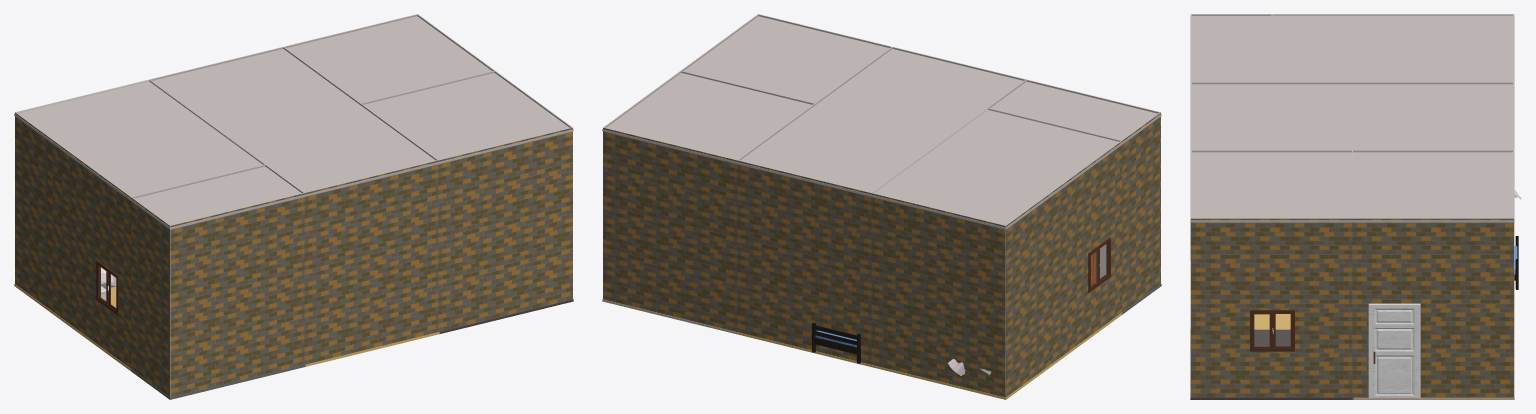
The model's file is ProcTHOR-Train-114.glb.
The picture shows the model from 3 angles, left to right: view 1: azimuth 30°, elevation 25°; view 2: azimuth 150°, elevation 25°; view 3: azimuth 270°, elevation 25°; orthographic projection. The views are drawn at different scales.
Parts seen in each view (by area): view 1: WallInside#wall|exterior|6.53|6.53|9.79|6.53, WallInside#wall|exterior|0.00|6.53|3.26|6.53, WallInside#wall|exterior|3.26|6.53|6.53|6.53, Ceiling#room|6|c, WallInside#wall|exterior|9.79|0.00|9.79|4.89, Ceiling#room|4|c, Ceiling#room|8|c, Ceiling#room|9|c, WallInside#wall|exterior|9.79|4.89|9.79|6.53, Ceiling#room|5|c, Window_Slider_36x36, Floor#room|5|f; view 2: WallInside#wall|exterior|0.00|0.00|3.26|0.00, WallInside#wall|exterior|6.53|0.00|9.79|0.00, WallInside#wall|exterior|3.26|0.00|6.53|0.00, Ceiling#room|6|c, WallInside#wall|exterior|9.79|0.00|9.79|4.89, Ceiling#room|4|c, Ceiling#room|9|c, Ceiling#room|8|c, WallInside#wall|exterior|9.79|4.89|9.79|6.53, Ceiling#room|5|c, Bed_20, Floor#room|4|f (+2 smaller); view 3: WallInside#wall|exterior|0.00|3.26|0.00|6.53, WallInside#wall|exterior|0.00|0.00|0.00|3.26, Ceiling#room|6|c, Ceiling#room|4|c, Ceiling#room|8|c, Ceiling#room|9|c, Ceiling#room|5|c, Doorway_8, Floor#room|8|f, Window_Slider_36x36, WallInside#wall|6|6.53|0.00|6.53|4.89, Floor#room|6|f (+6 smaller).
Part boxes in pixels (x1,y1,x2,y2): WallInside#wall|exterior|6.53|6.53|9.79|6.53: (170, 193, 304, 397); WallInside#wall|exterior|0.00|6.53|3.26|6.53: (438, 127, 572, 331); WallInside#wall|exterior|3.26|6.53|6.53|6.53: (304, 160, 438, 364); Ceiling#room|6|c: (152, 49, 439, 196); WallInside#wall|exterior|9.79|0.00|9.79|4.89: (15, 112, 131, 368); Ceiling#room|4|c: (14, 81, 262, 200); Ceiling#room|8|c: (361, 73, 573, 163); Ceiling#room|9|c: (286, 16, 492, 104); WallInside#wall|exterior|9.79|4.89|9.79|6.53: (131, 197, 170, 397); Ceiling#room|5|c: (130, 166, 305, 229); Window_Slider_36x36: (96, 260, 118, 315); Floor#room|5|f: (131, 364, 305, 399); WallInside#wall|exterior|0.00|0.00|3.26|0.00: (603, 127, 737, 331); WallInside#wall|exterior|6.53|0.00|9.79|0.00: (871, 193, 1005, 397); WallInside#wall|exterior|3.26|0.00|6.53|0.00: (737, 160, 871, 364); Ceiling#room|6|c: (736, 49, 1025, 196); WallInside#wall|exterior|9.79|0.00|9.79|4.89: (1005, 140, 1122, 397); Ceiling#room|4|c: (870, 110, 1122, 229); Ceiling#room|9|c: (602, 73, 811, 163); Ceiling#room|8|c: (683, 16, 889, 105); WallInside#wall|exterior|9.79|4.89|9.79|6.53: (1122, 112, 1160, 311); Ceiling#room|5|c: (988, 81, 1161, 144); Bed_20: (812, 322, 860, 363); Floor#room|4|f: (870, 312, 1122, 399); WallInside#wall|exterior|0.00|3.26|0.00|6.53: (1191, 218, 1352, 397); WallInside#wall|exterior|0.00|0.00|0.00|3.26: (1352, 218, 1513, 397); Ceiling#room|6|c: (1190, 84, 1514, 151); Ceiling#room|4|c: (1271, 15, 1514, 83); Ceiling#room|8|c: (1190, 152, 1353, 222); Ceiling#room|9|c: (1351, 152, 1514, 222); Ceiling#room|5|c: (1190, 15, 1272, 83); Doorway_8: (1368, 303, 1420, 398); Floor#room|8|f: (1190, 329, 1353, 399); Window_Slider_36x36: (1250, 310, 1294, 351); WallInside#wall|6|6.53|0.00|6.53|4.89: (1272, 82, 1512, 84); Floor#room|6|f: (1190, 261, 1514, 329).
Size of what is drawn, in the model's own units: 9.92 by 4.04 by 6.71.
288 materials, 110 textured.
